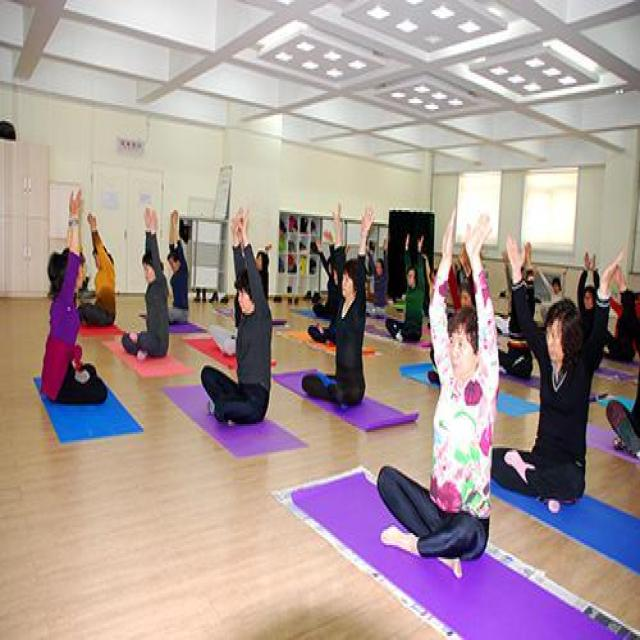no_helmet: (445, 305, 484, 377), (544, 293, 581, 365), (232, 266, 262, 317), (53, 246, 83, 293), (338, 256, 362, 297), (137, 244, 160, 281), (454, 276, 475, 307), (88, 238, 109, 267), (165, 242, 184, 273), (251, 244, 269, 275), (581, 281, 595, 309), (372, 250, 387, 274), (324, 248, 336, 272), (549, 268, 562, 290), (332, 260, 343, 284), (406, 262, 417, 284), (426, 262, 438, 280)
